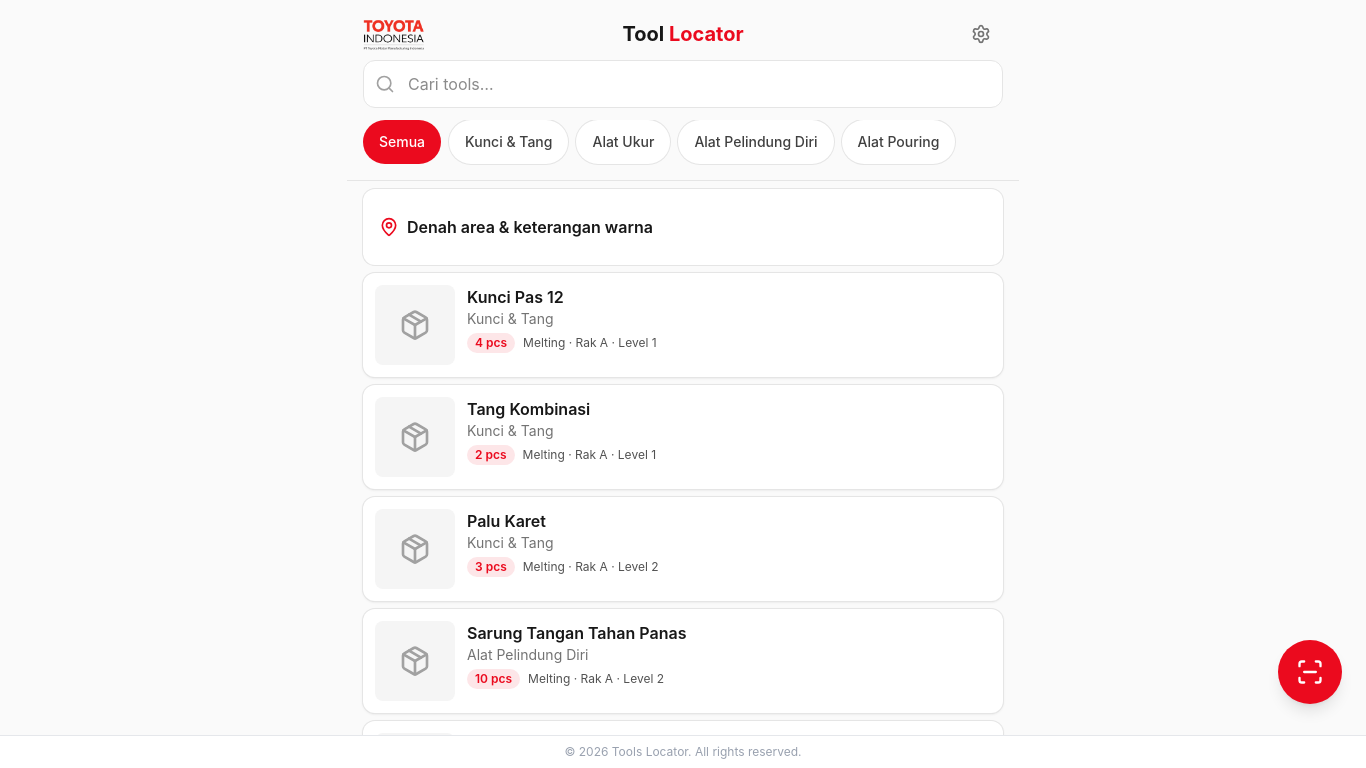
Test: menyaring lewat chip kategori
The width and height of the screenshot is (1366, 768).
expect the text "Kunci Pas 12" is shown: met, box [467, 287, 564, 307]
What coordinates should you click on to do the following:
click the button "Alat Ukur"
I would click on:
 (623, 142)
Its box is [576, 120, 670, 164].
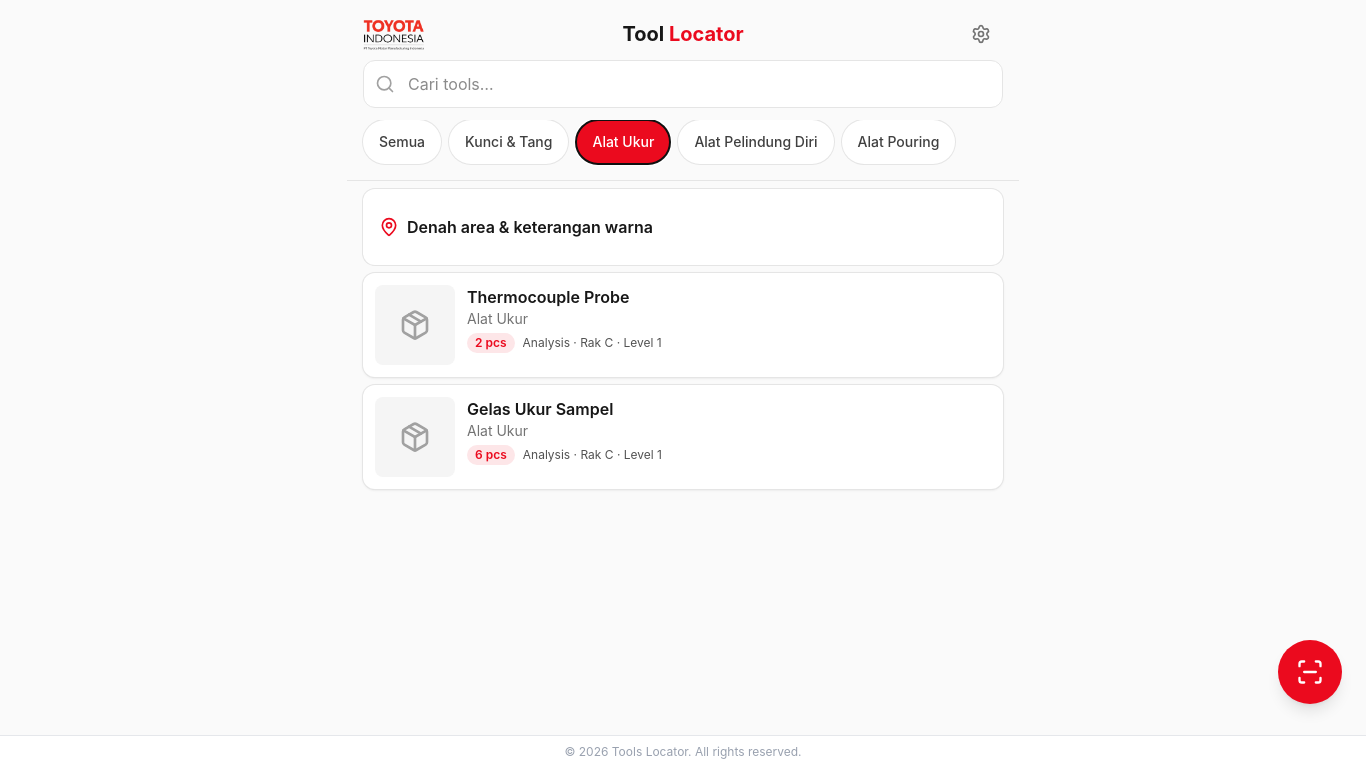
expect the text "Thermocouple Probe" is shown: met, box [467, 287, 630, 307]
expect the link "Kunci Pas 12" is gone: met
